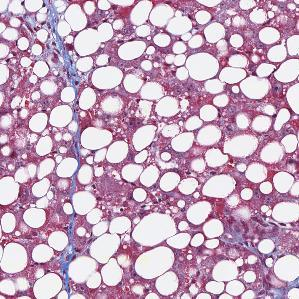fibrosis: (50, 31, 87, 87)
